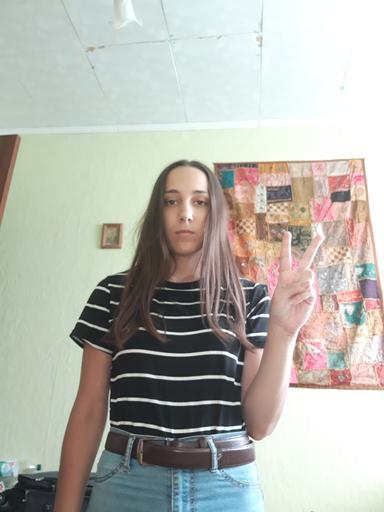peace: (269, 229, 326, 334)
